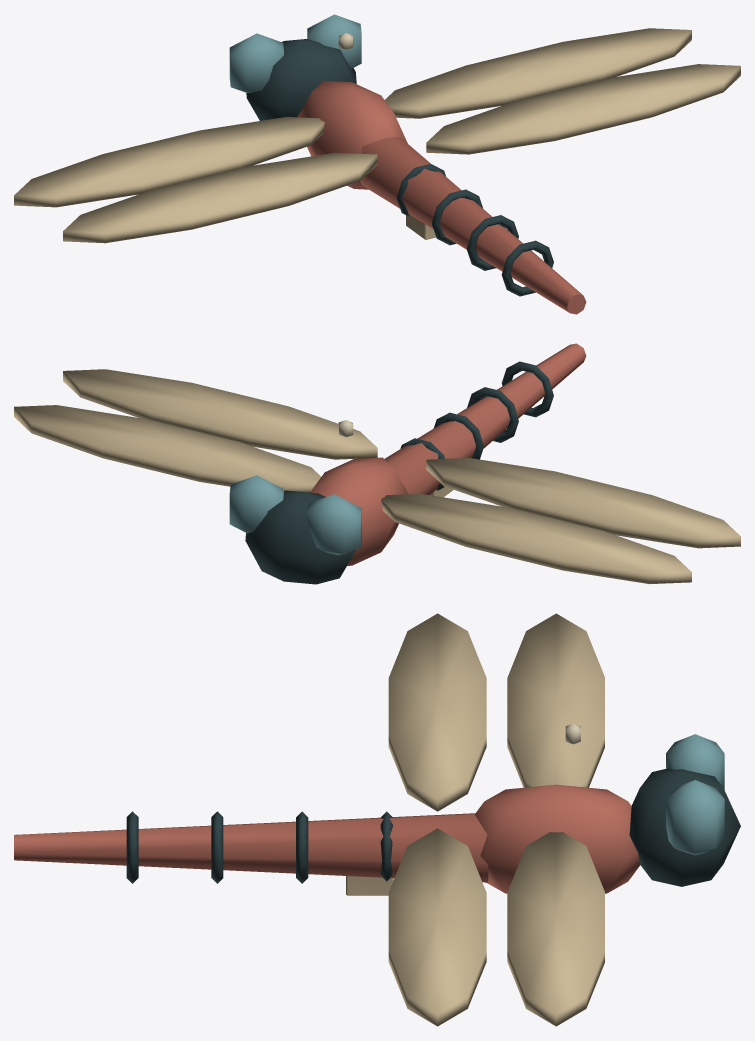
File: insect_dragonfly_red_low.glb
3 renders of one model, top to bottom at view 1: azimuth 30°, elevation 25°; view 2: azimuth 150°, elevation 25°; view 3: azimuth 270°, elevation 25°, orthographic. The views are drawn at different scales.
Size of the model in its own units: 0.2799 by 0.057 by 0.2145.
